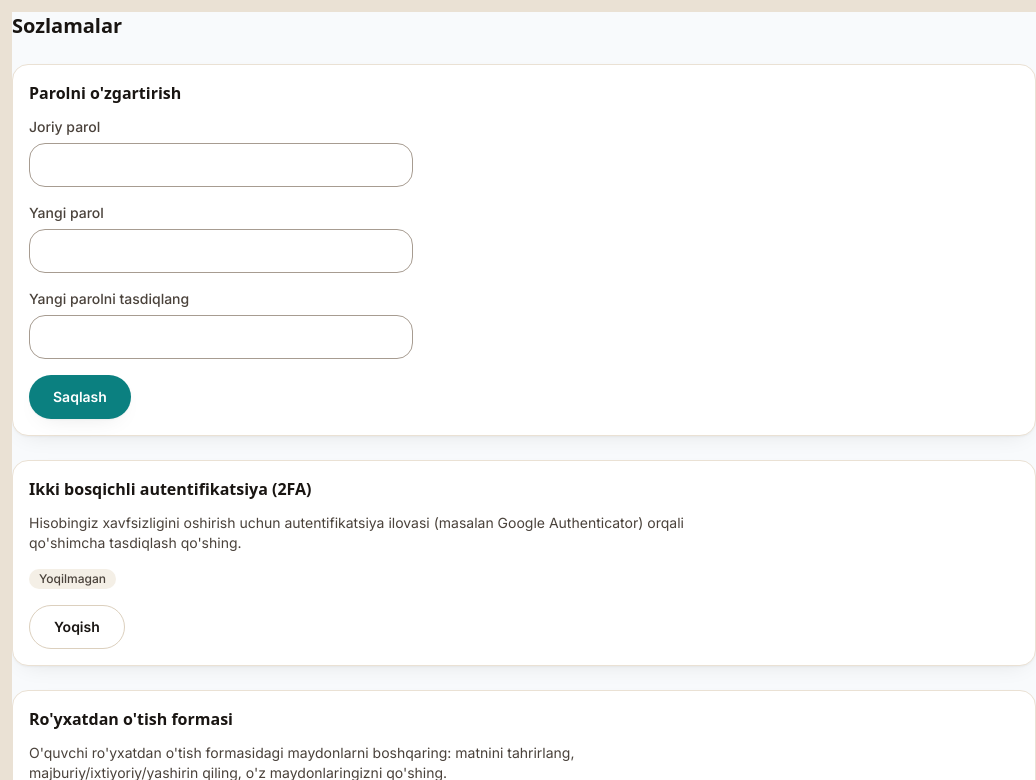
Test case: SettingsPage › parolni muvaffaqiyatli o'zgartirganda muvaffaqiyat bildirishnomasi chiqadi va forma tozalanadi
Expected: the text "Yoqilmagan" is shown, [29,569,116,589]
Type "EskiParol1" into the password field labelled "Joriy parol" at (221, 165), box [29,143,413,187]
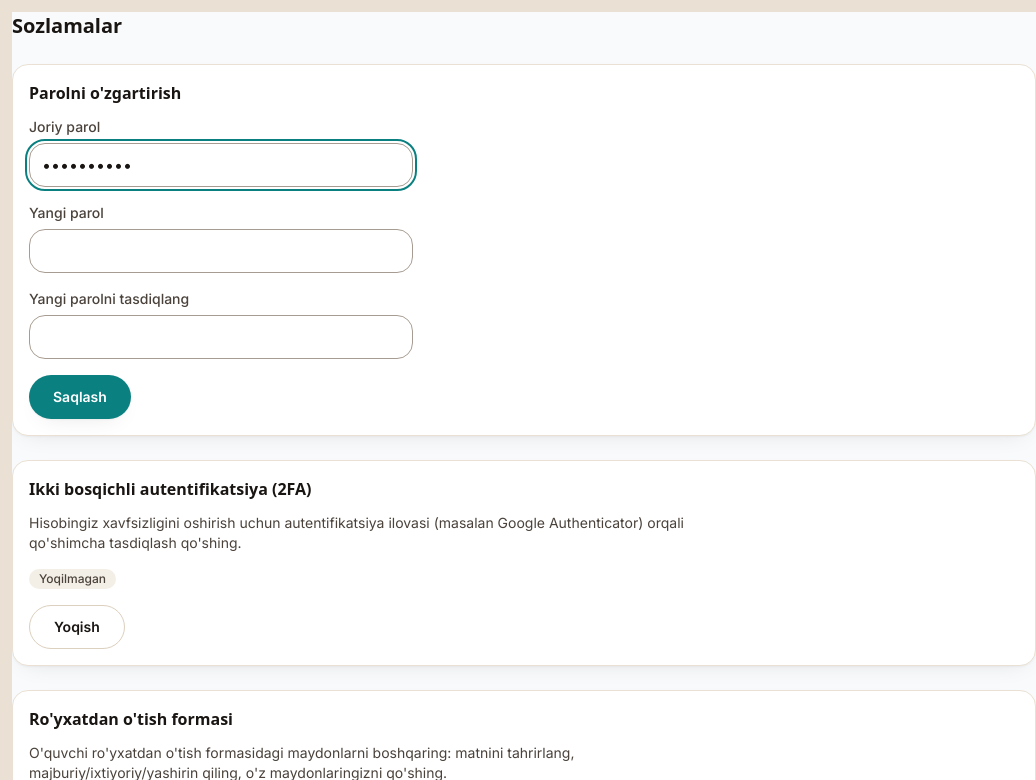
Type "YangiParol1" into the password field labelled "Yangi parol" at (221, 251), box [29,229,413,273]
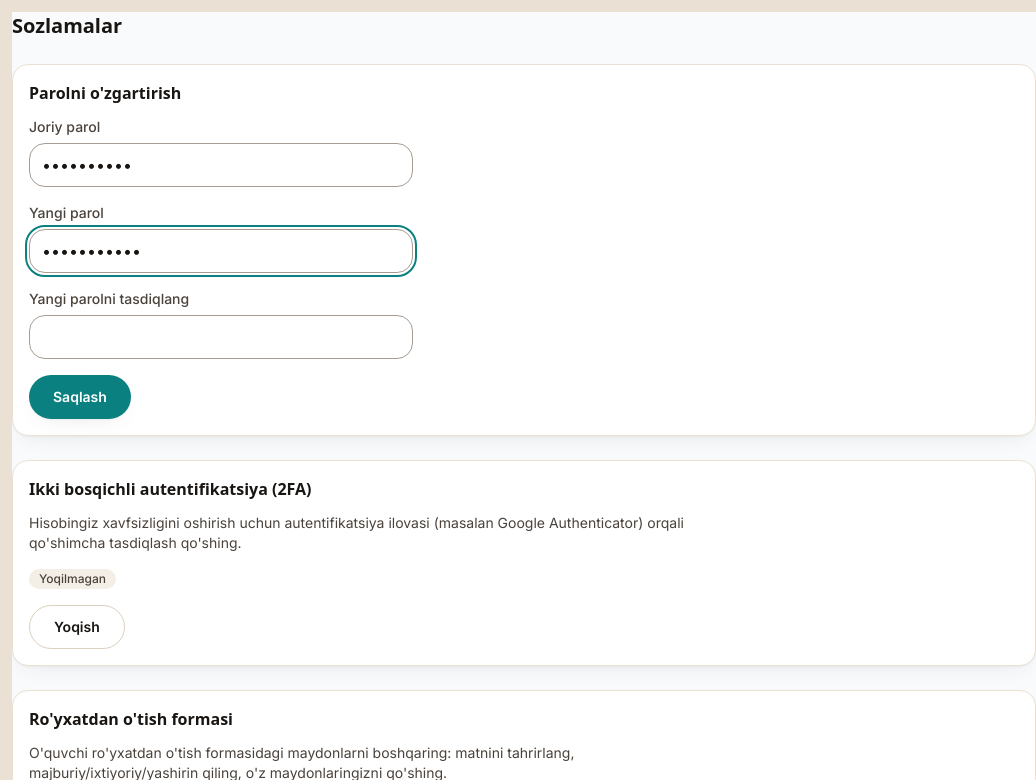
Type "YangiParol1" into the password field labelled "Yangi parolni tasdiqlang" at (221, 337), box [29,315,413,359]
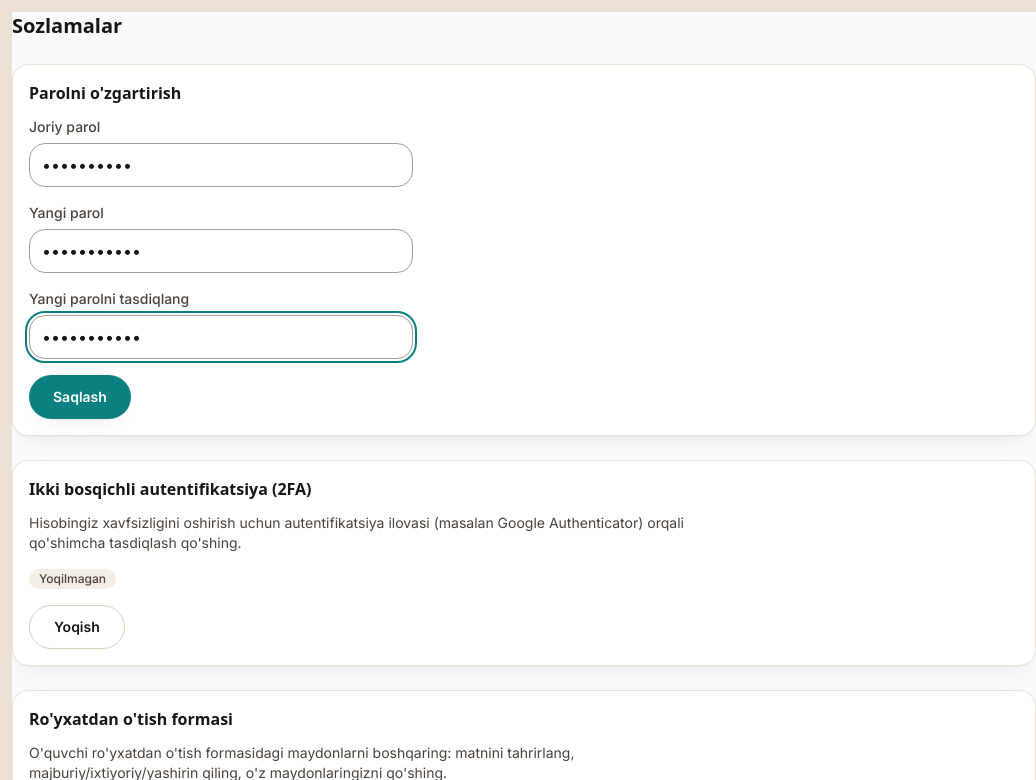
Click the button "Saqlash" at (80, 397), box [29,375,131,419]
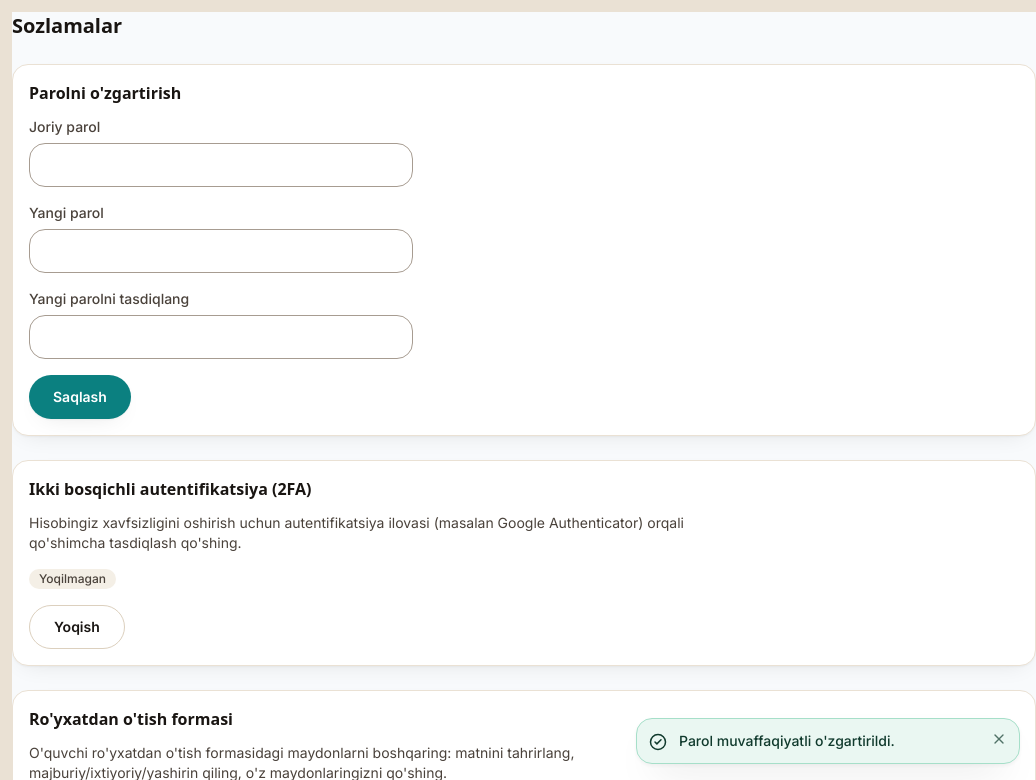
Now the text "Parol muvaffaqiyatli o'zgartirildi." is shown, box [679,732,895,749]
Now the password field labelled "Joriy parol" is empty, box [29,143,413,187]
